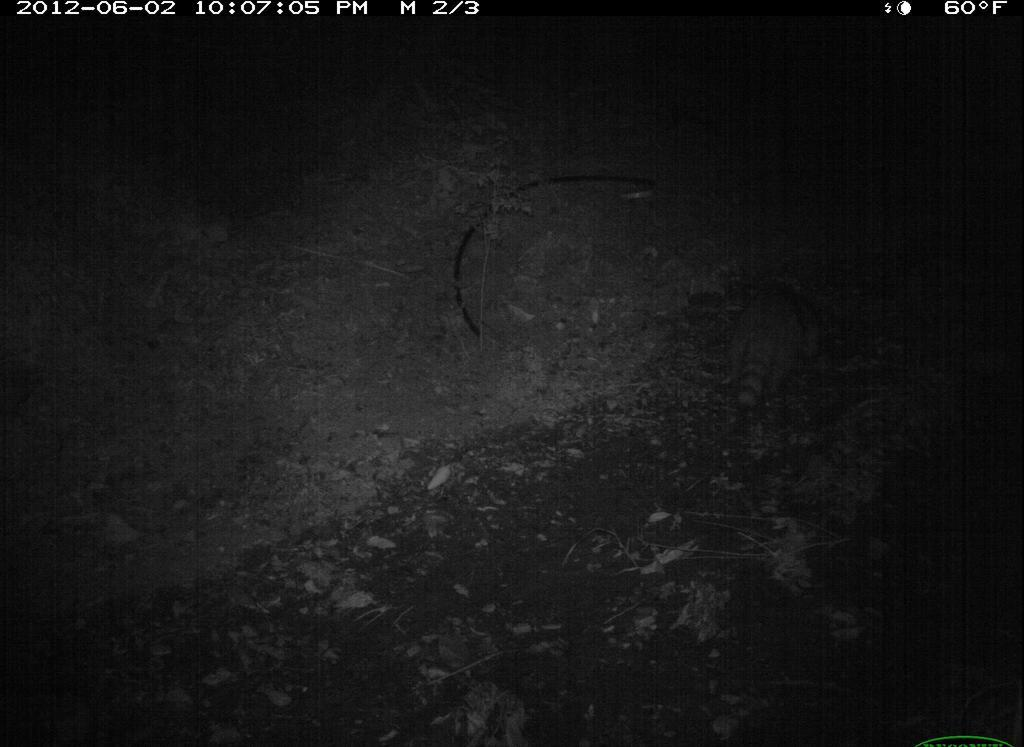raccoon: (715, 269, 834, 422)
